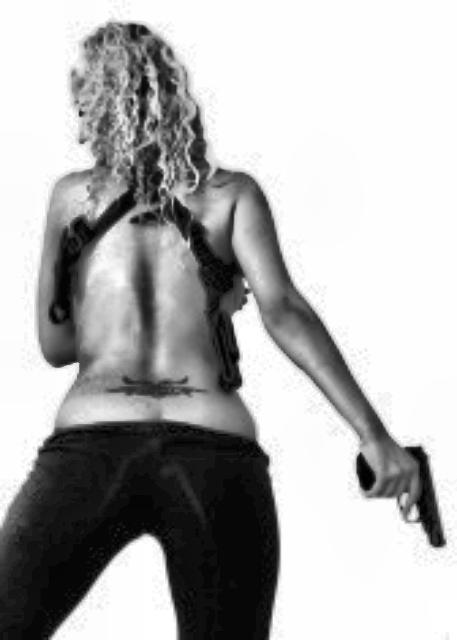pistol: (348, 441, 444, 547)
